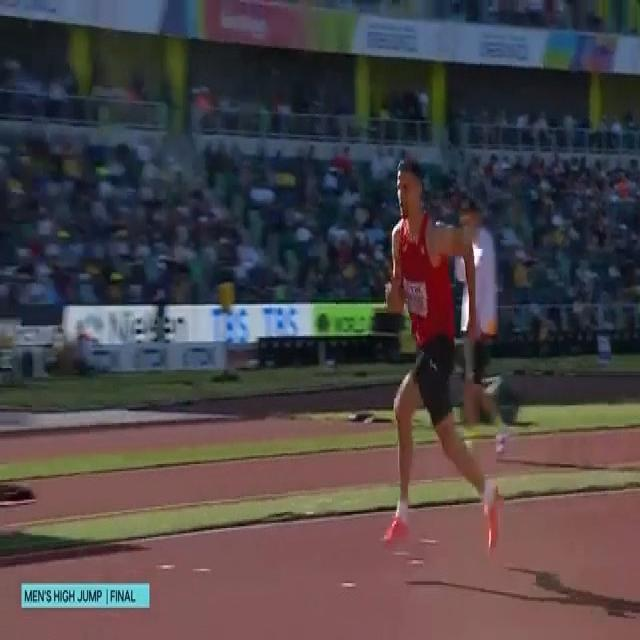run: (375, 153, 508, 558)
